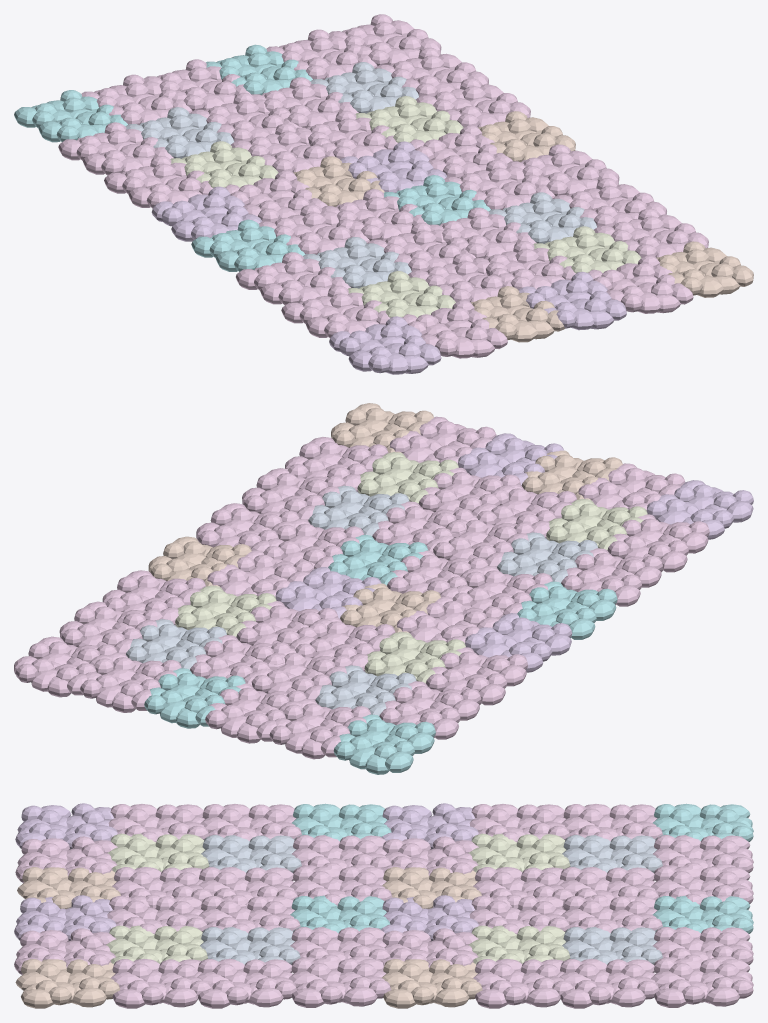
3 renders of one model, top to bottom at view 1: azimuth 30°, elevation 25°; view 2: azimuth 150°, elevation 25°; view 3: azimuth 270°, elevation 25°, orthographic. The views are drawn at different scales.
Visible parts, largest first — view 1: 球体.002; view 2: 球体.002; view 3: 球体.002.
Part boxes in pixels (left/top/right/bottom): 球体.002: left=14, top=14, right=753, bottom=374; 球体.002: left=14, top=403, right=753, bottom=774; 球体.002: left=14, top=803, right=753, bottom=1008.
Bounding box in the file's own units: 3457 × 206 × 5519.
